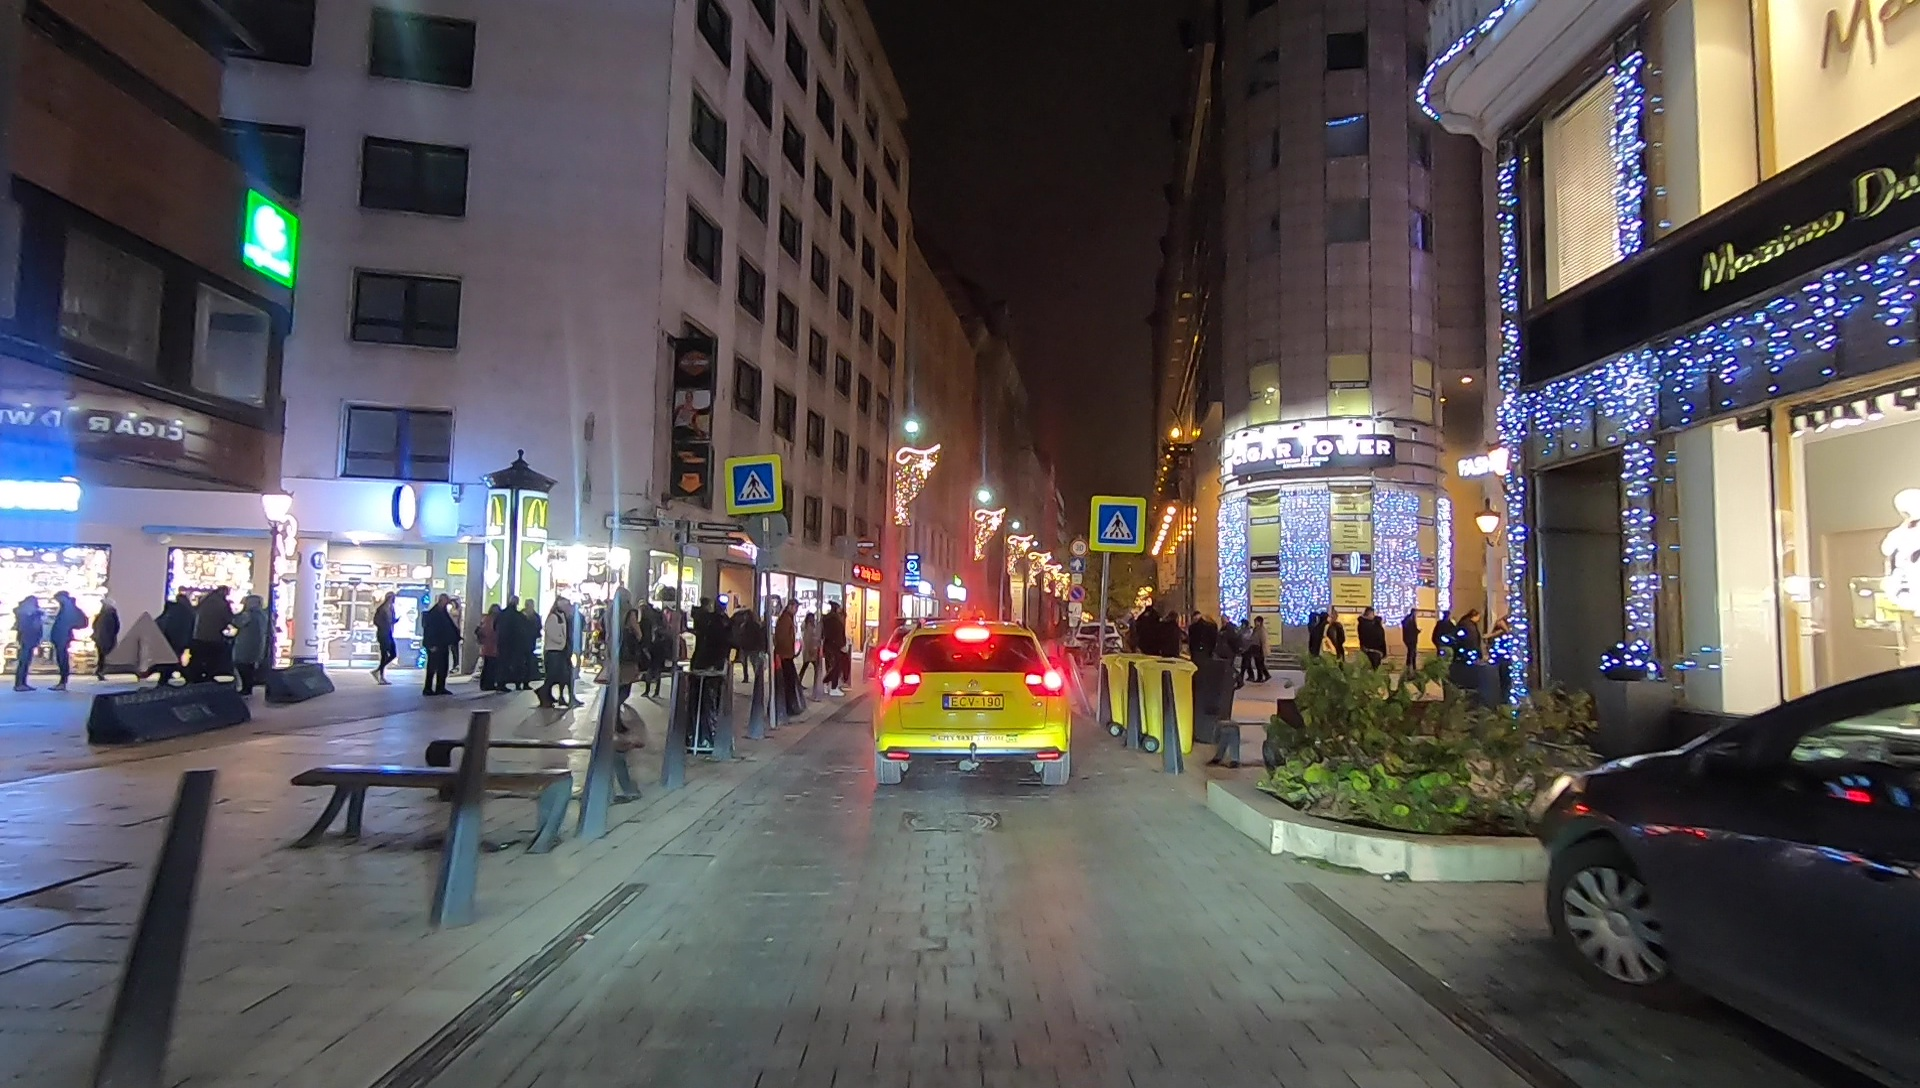person: (602, 593, 639, 719), (547, 589, 580, 711), (771, 593, 802, 719), (47, 587, 82, 695), (423, 595, 458, 697), (195, 584, 225, 695), (821, 602, 854, 702), (691, 593, 715, 723), (238, 593, 265, 697), (493, 591, 521, 695), (162, 586, 189, 693), (12, 593, 39, 693), (373, 589, 401, 689), (645, 602, 671, 702), (712, 591, 730, 715), (480, 600, 502, 693), (1356, 604, 1382, 680), (93, 597, 117, 680), (521, 595, 541, 693), (1138, 604, 1162, 684), (1456, 608, 1482, 674), (1219, 615, 1239, 689), (1434, 608, 1454, 682), (802, 608, 817, 693), (1404, 608, 1423, 678), (1325, 608, 1345, 671), (1249, 617, 1267, 682), (1310, 613, 1326, 678), (1164, 611, 1180, 680), (1195, 615, 1212, 676)
